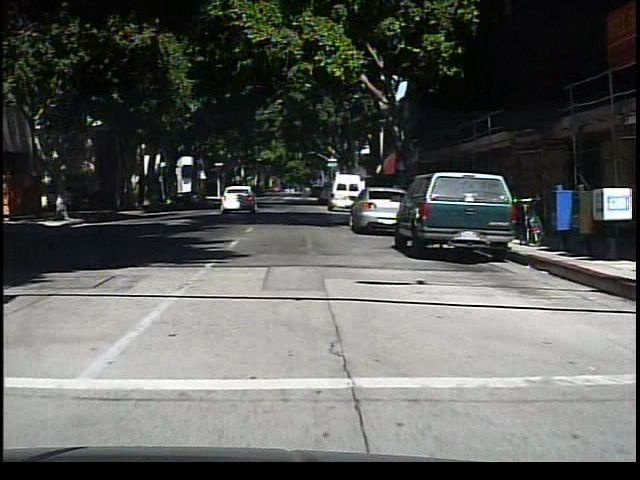person: (53, 177, 70, 221), (294, 178, 313, 206)
